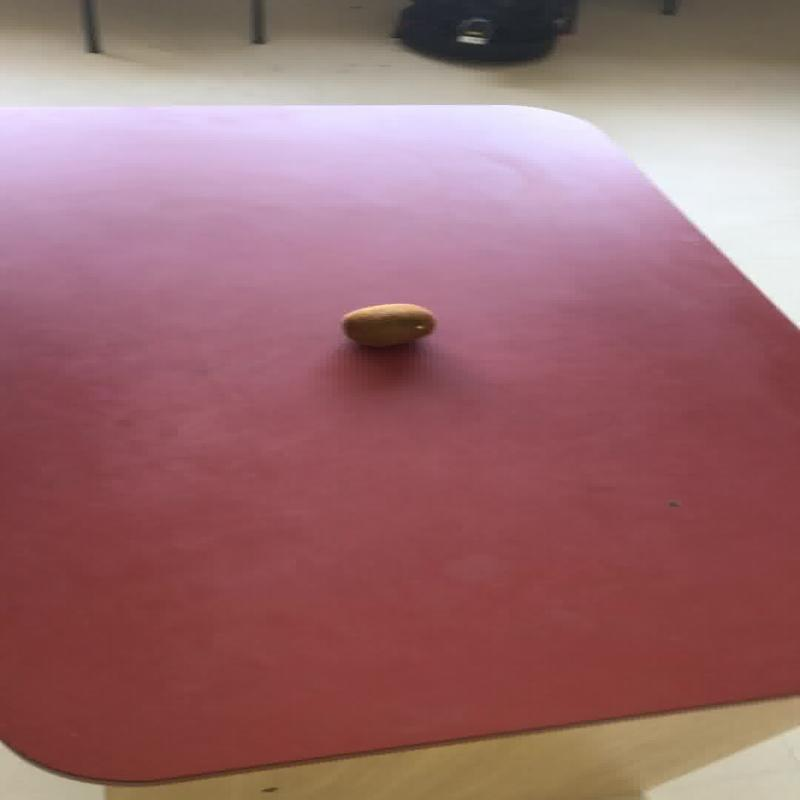kiwi: (339, 302, 436, 347)
